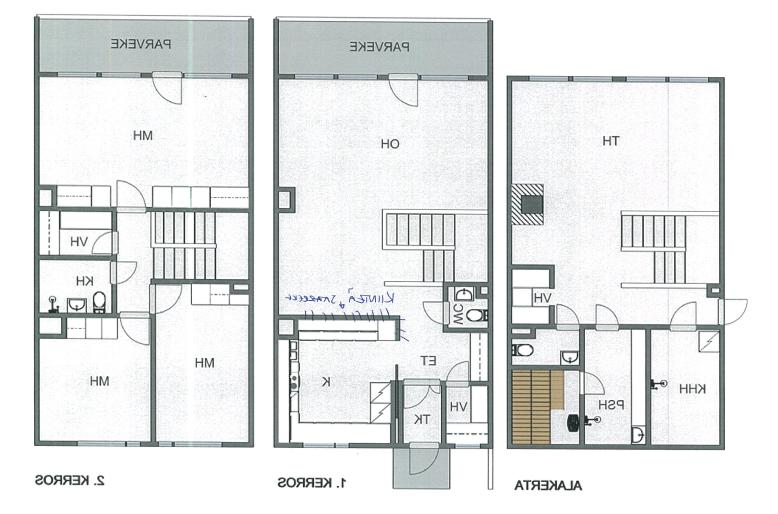bathroom: (38, 259, 113, 315), (510, 327, 583, 365), (446, 286, 490, 330)
door: (400, 440, 440, 476), (386, 70, 422, 109), (149, 69, 185, 108), (146, 281, 186, 316), (118, 311, 152, 348), (115, 180, 150, 212), (666, 300, 698, 334), (715, 296, 751, 325), (401, 377, 429, 411), (552, 302, 582, 332), (106, 258, 140, 284), (593, 302, 622, 332), (90, 229, 120, 256), (578, 370, 608, 396), (442, 360, 472, 386), (421, 302, 451, 326)
perimeter: (32, 74, 255, 444), (274, 75, 494, 448), (507, 77, 725, 450)
stairs: (620, 215, 686, 249), (385, 216, 457, 246), (152, 212, 216, 244), (153, 248, 216, 279), (652, 251, 686, 284), (424, 251, 456, 282)
window: (419, 72, 471, 90), (666, 74, 714, 88), (622, 72, 668, 86), (173, 440, 227, 451), (334, 72, 379, 85), (72, 440, 126, 450), (181, 71, 234, 81), (291, 73, 335, 85), (570, 74, 616, 85), (100, 72, 146, 83), (527, 74, 570, 85), (51, 71, 98, 80), (301, 441, 335, 450), (452, 442, 484, 451), (125, 440, 144, 449), (333, 442, 354, 450), (156, 441, 174, 450)
